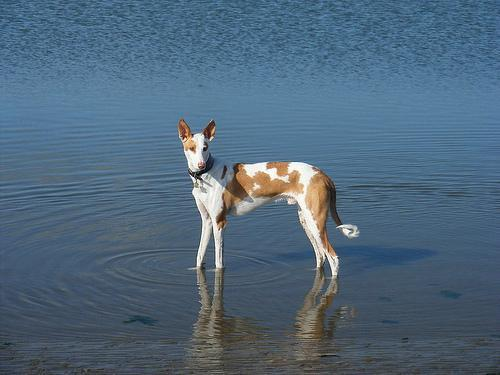Ibizan_hound: (177, 117, 361, 277)
